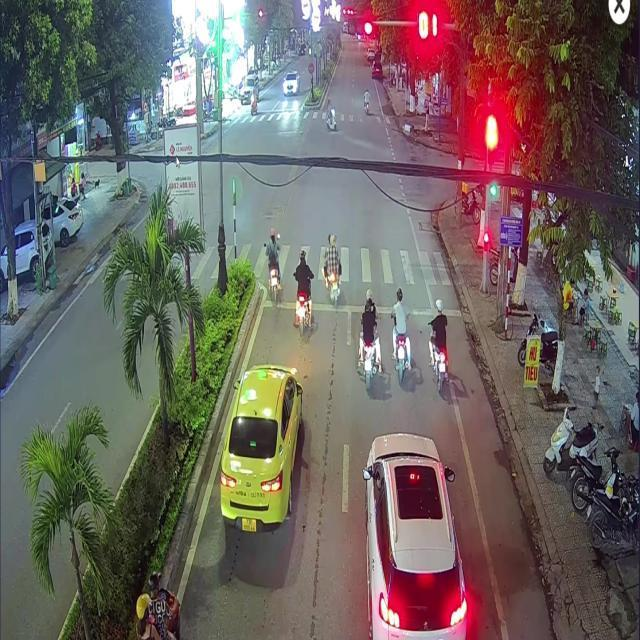car: (362, 432, 466, 638), (220, 364, 302, 530)
motobike: (134, 572, 179, 638), (356, 344, 380, 388), (428, 343, 448, 392), (392, 333, 410, 383), (293, 290, 312, 334), (322, 265, 340, 299), (267, 262, 281, 301)
red_light: (346, 15, 373, 36), (486, 135, 495, 168), (483, 236, 487, 254)
stop_line: (263, 299, 460, 315)
